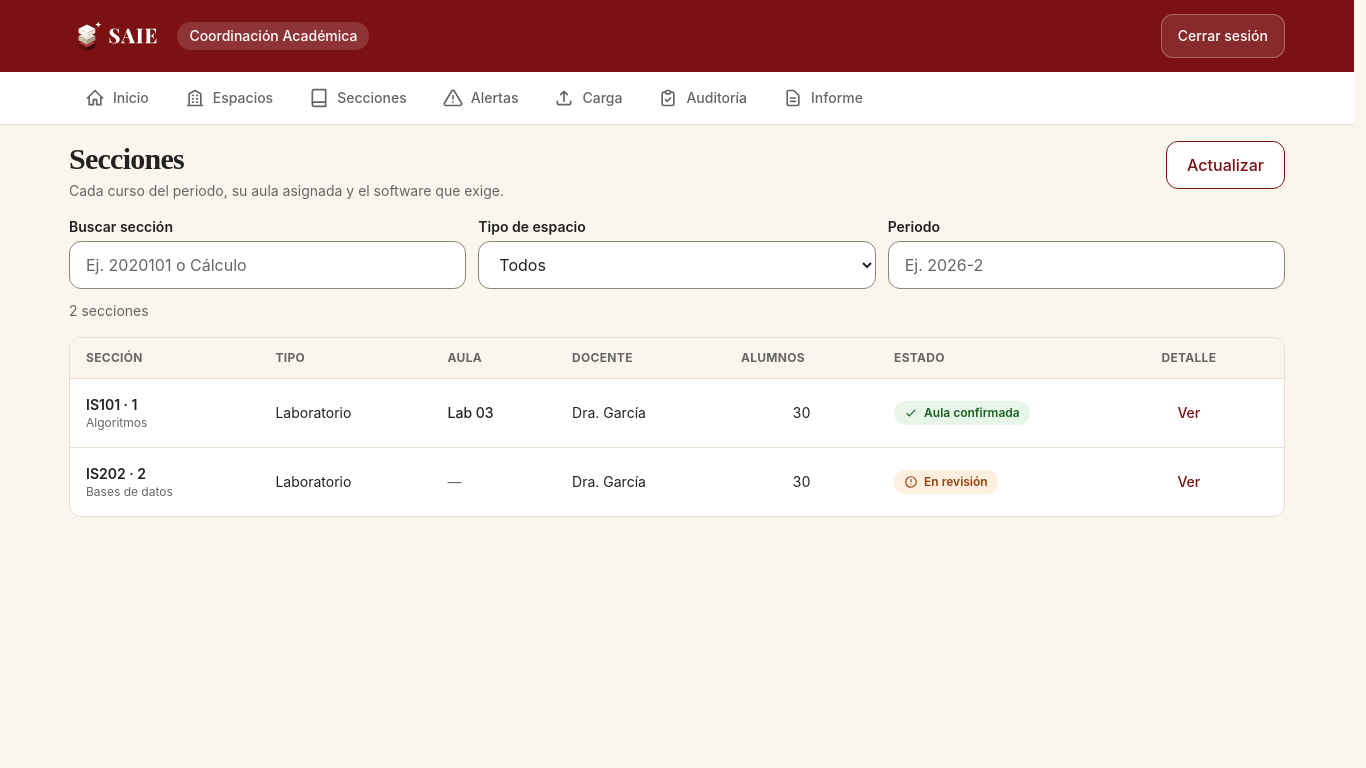
Scenario: Gestión individual de secciones (Issue 4.31) › avisa cuando el cambio genera alertas en el panel
Click the button with aria-label "Ver detalle de IS101 1": (1189, 413) [1161,391,1216,435]
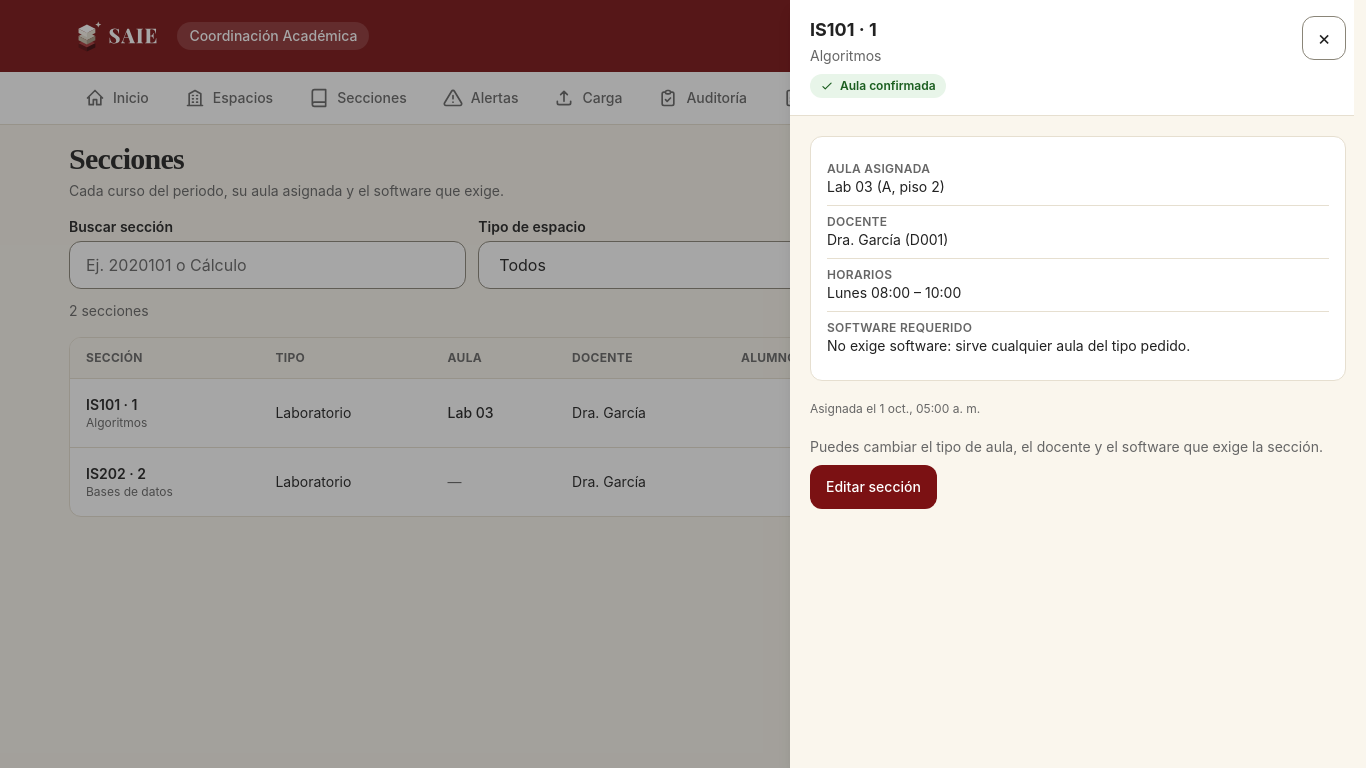
Click the button "Editar sección": (873, 487) [810,465,937,509]
(page scrolled)
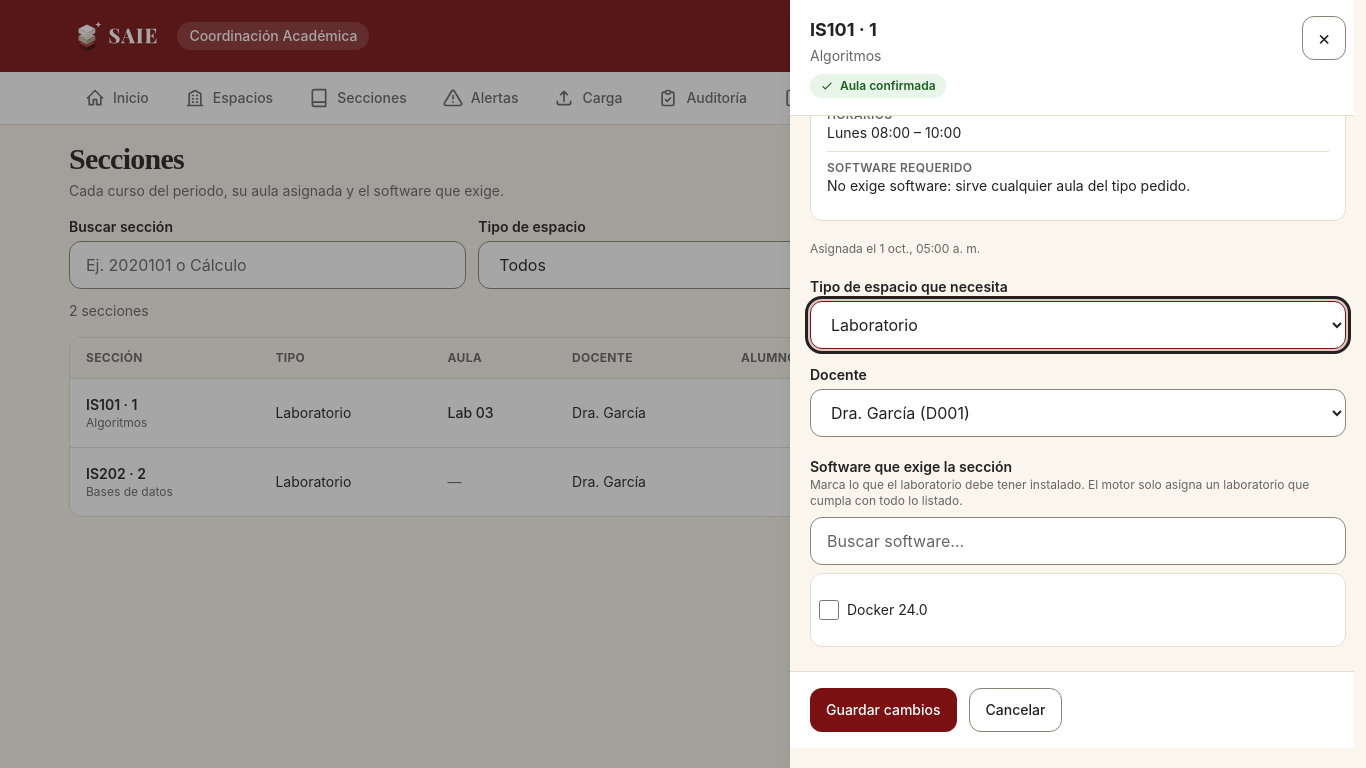
Click the checkbox labelled "Docker 24.0": (829, 610) [819,600,839,620]
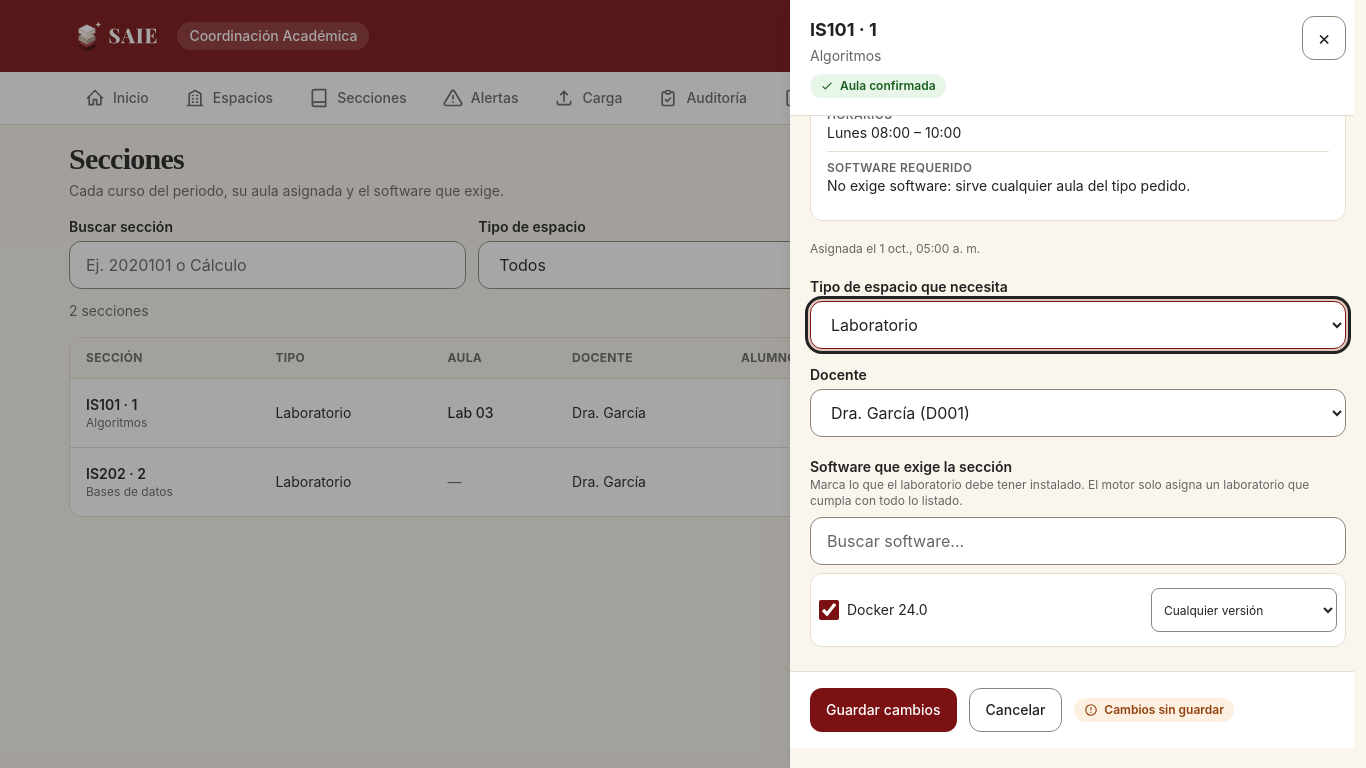
Click the button "Guardar cambios": (883, 710) [810,688,956,732]
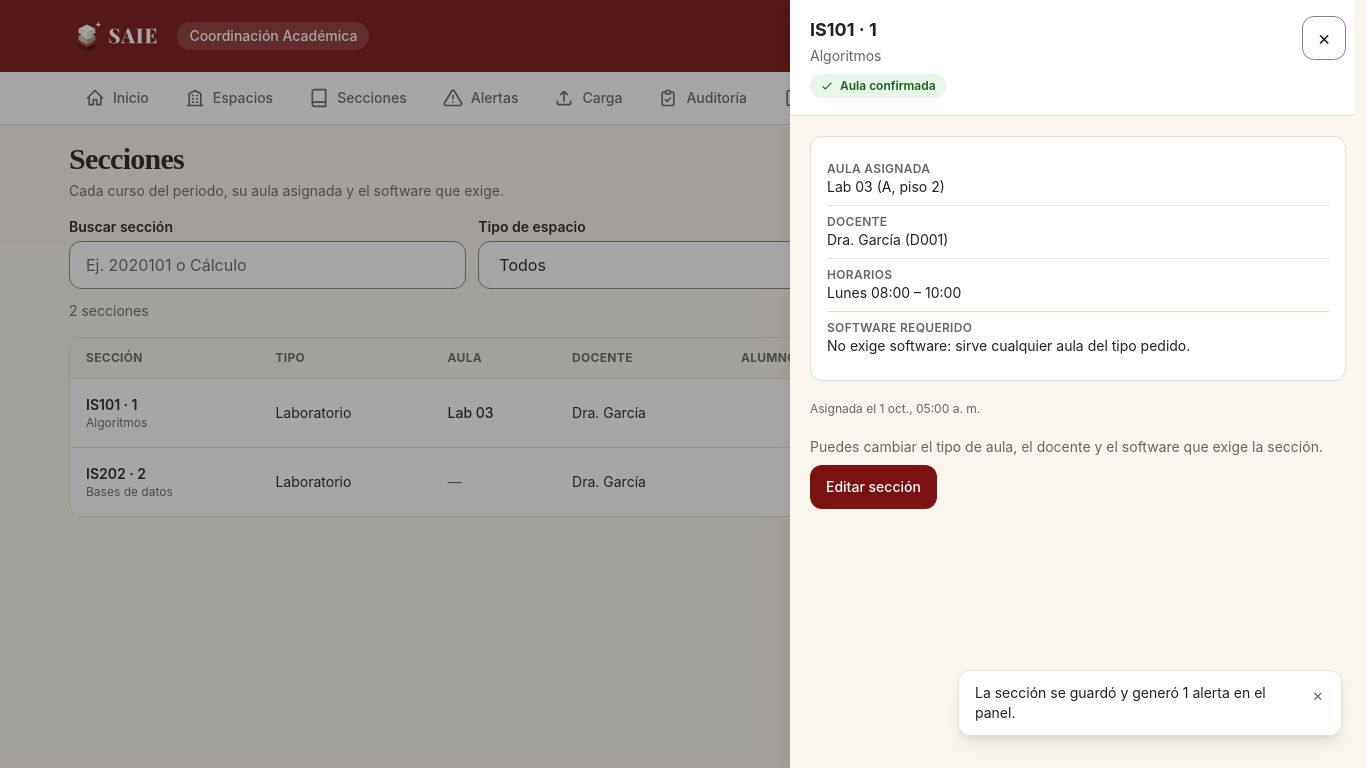
Expected: the text "La sección se guardó y generó 1 alerta en el panel." is shown, [975,683,1294,723]
